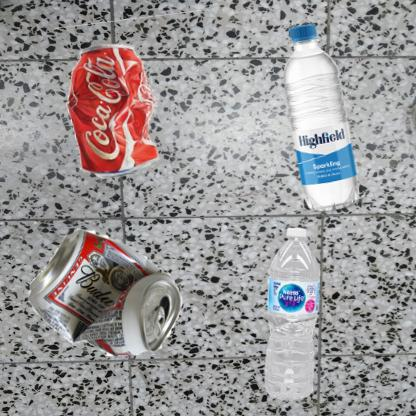botella: (213, 10, 416, 236), (213, 213, 374, 416)
lata: (10, 10, 225, 226), (10, 213, 206, 358)
